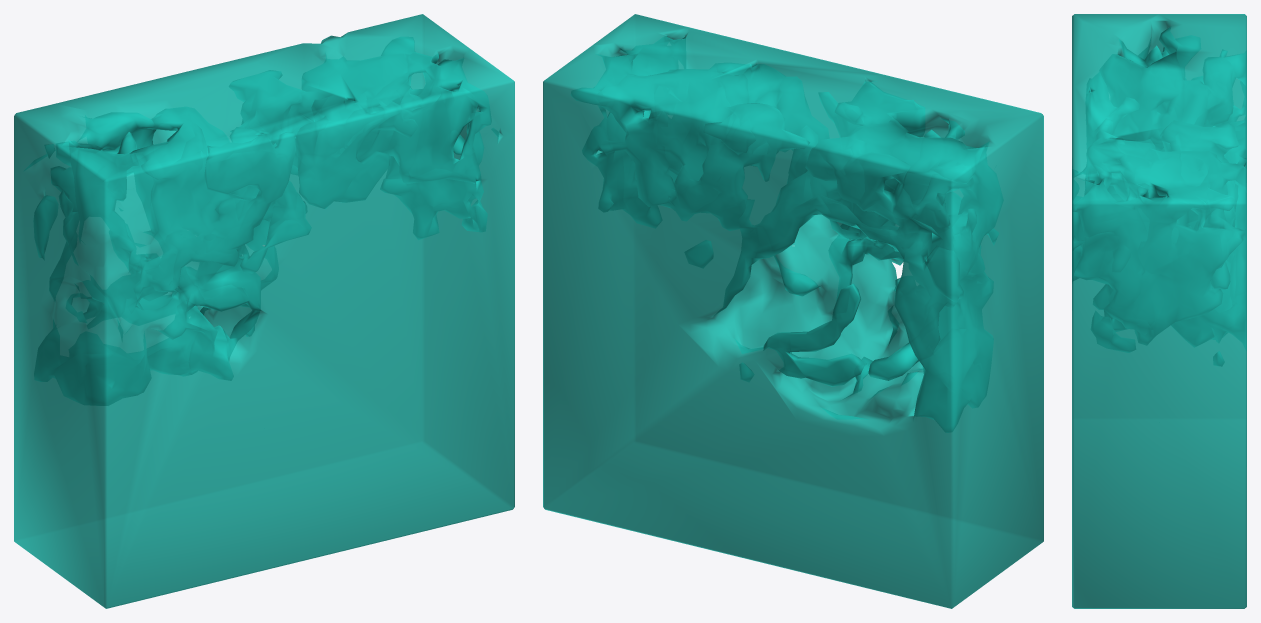
The picture shows the model from 3 angles, left to right: view 1: azimuth 30°, elevation 25°; view 2: azimuth 150°, elevation 25°; view 3: azimuth 270°, elevation 25°; orthographic projection. The views are drawn at different scales.
Visible parts, largest first — view 1: Liquid_Domain; view 2: Liquid_Domain; view 3: Liquid_Domain.
Part boxes in pixels (box(x1,y1,x2,y2)): Liquid_Domain: box(14, 14, 514, 608); Liquid_Domain: box(543, 14, 1043, 608); Liquid_Domain: box(1072, 14, 1246, 608).
Size of the model in its own units: 884 by 885 by 344.
